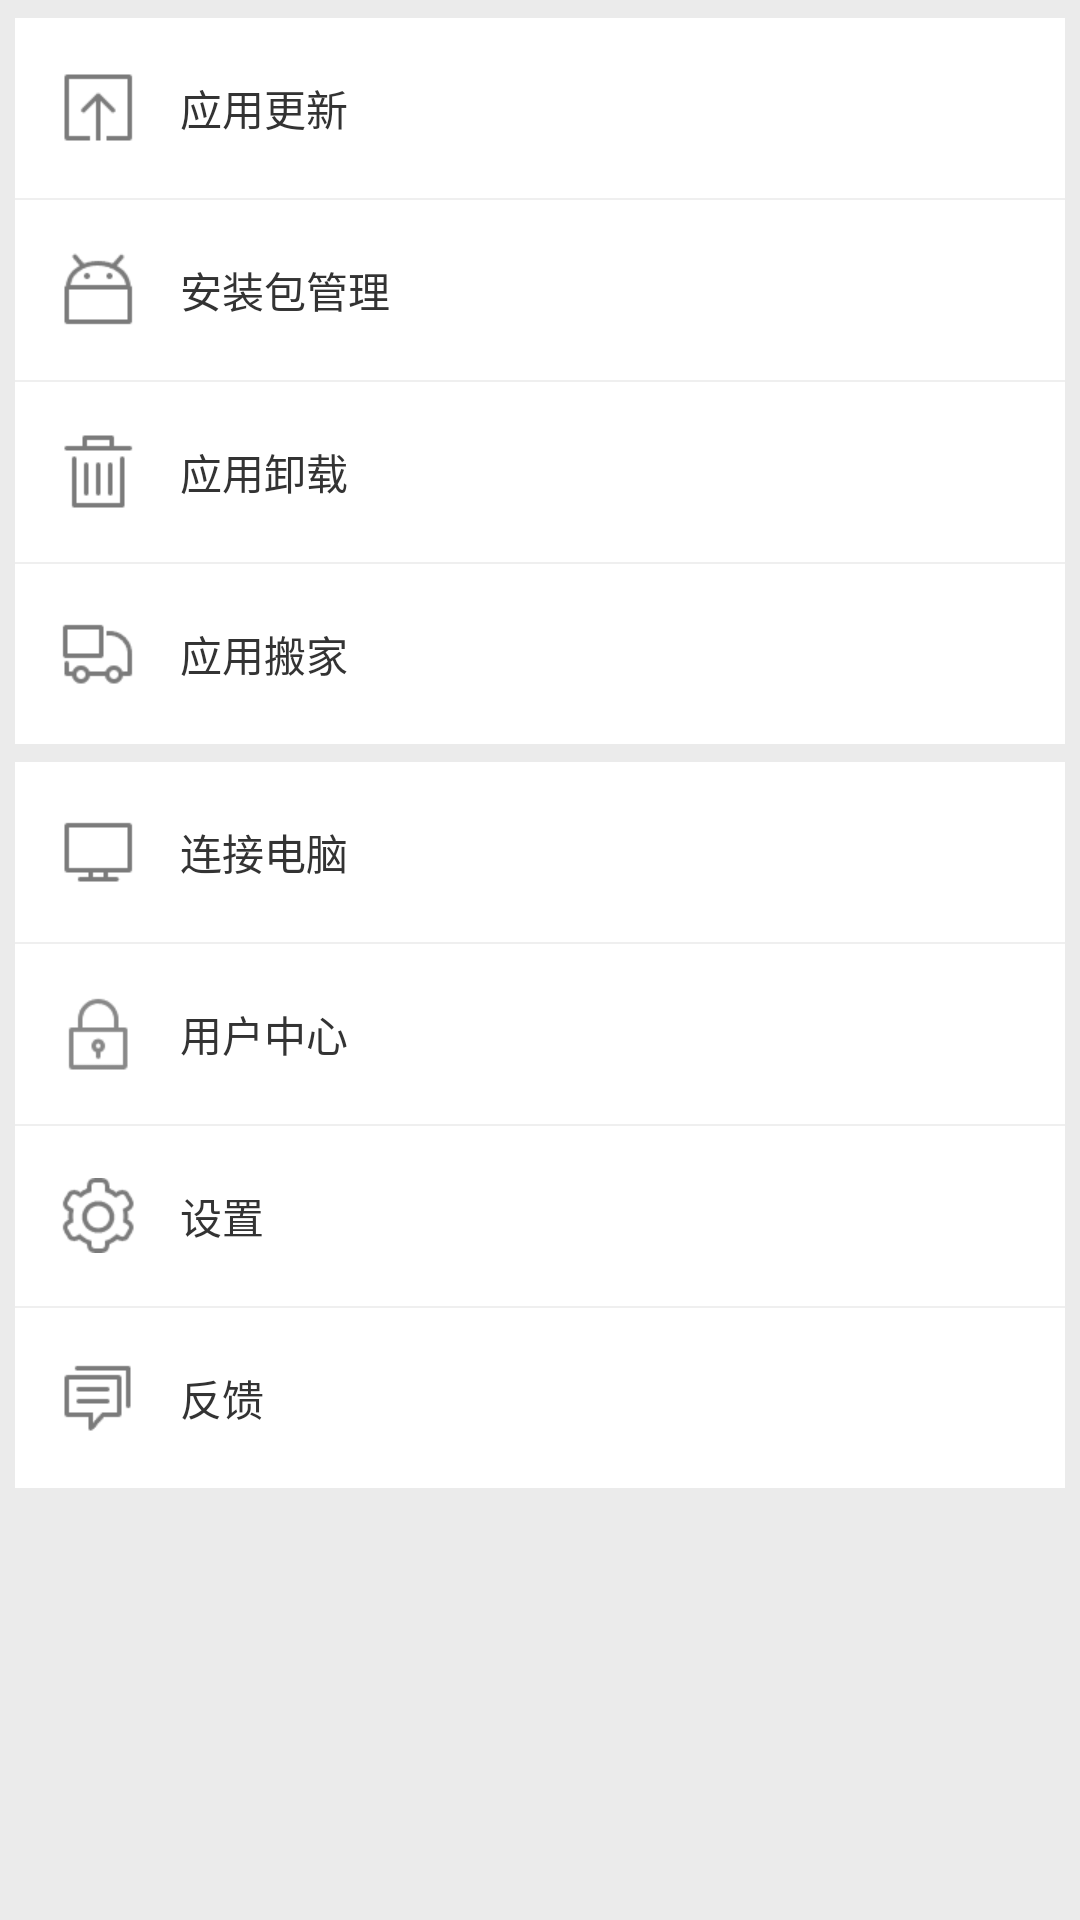

Screen size 1080x1920. Icon name, then its box in pixels as detection(x1, y1, x2, y2):
manager app move: detection(63, 625, 132, 684)
manager app uninstall: detection(64, 435, 132, 508)
manager app update: detection(64, 74, 132, 141)
manager connect pc: detection(64, 823, 132, 882)
manager feedback: detection(64, 1366, 131, 1431)
manager privacy: detection(69, 999, 128, 1070)
manager setting: detection(63, 1178, 134, 1253)
